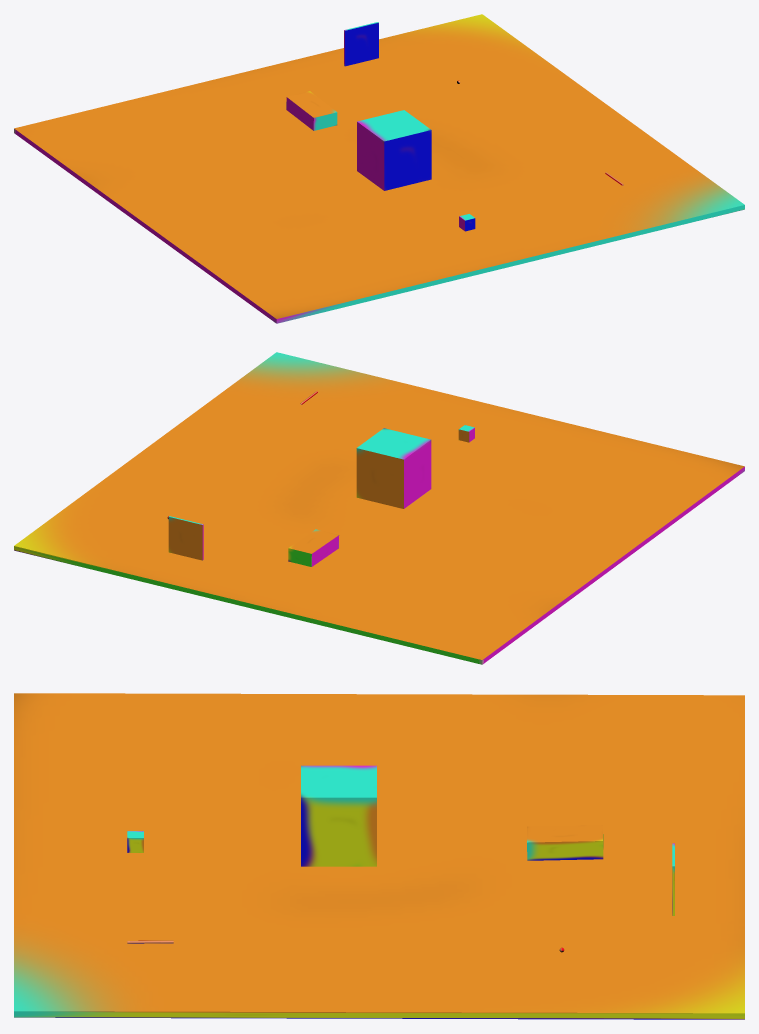
The model's file is towers.gltf.
3 renders of one model, top to bottom at view 1: azimuth 30°, elevation 25°; view 2: azimuth 150°, elevation 25°; view 3: azimuth 270°, elevation 25°, orthographic. The views are drawn at different scales.
Parts seen in each view (by area): view 1: Ground, Cube.001, Cube.003, Target; view 2: Ground, Cube.001, Target, Cube.003; view 3: Ground, Cube.001, Cube.003.
Part boxes in pixels (x1,y1,x2,y2): Ground: (14,14,744,323); Cube.001: (357,110,431,190); Cube.003: (286,91,337,130); Target: (344,22,378,66); Ground: (14,352,744,664); Cube.001: (356,428,431,508); Target: (168,516,203,560); Cube.003: (288,529,339,566); Ground: (14,693,744,1019); Cube.001: (301,765,376,866); Cube.003: (527,825,603,860).
Bounding box in the file's own units: 19.8 × 2.3 × 19.23.
Materials: 2 (2 with a texture image).
